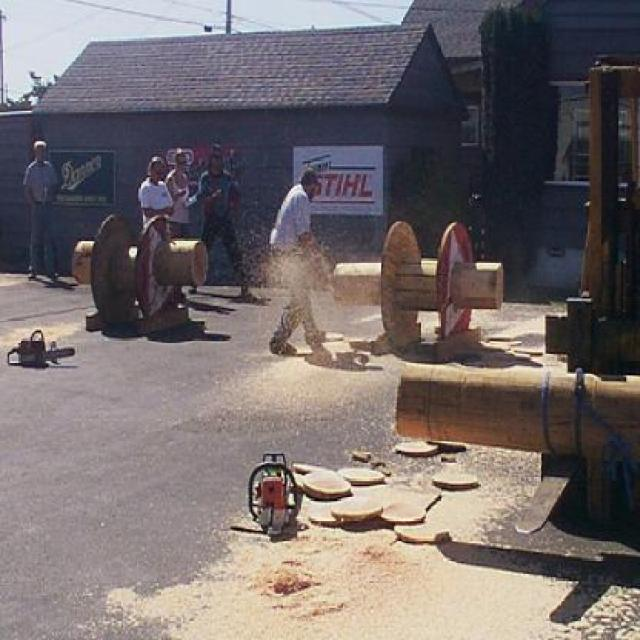Chainsaw: (231, 449, 309, 538), (4, 326, 82, 369)
